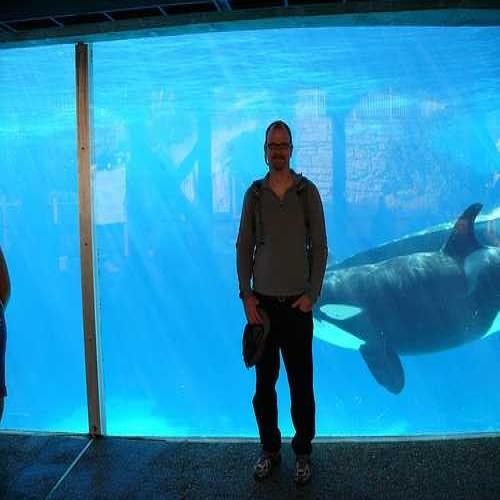killer_whale-endangered: (301, 209, 500, 384)
